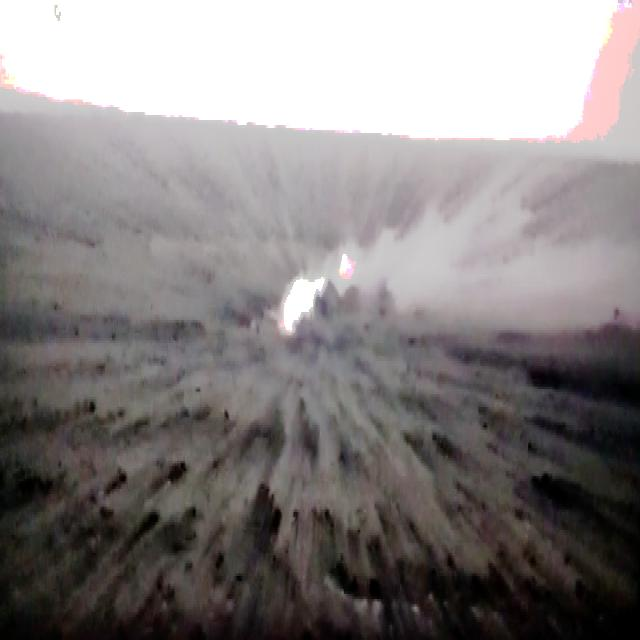asap: (263, 186, 532, 355)
